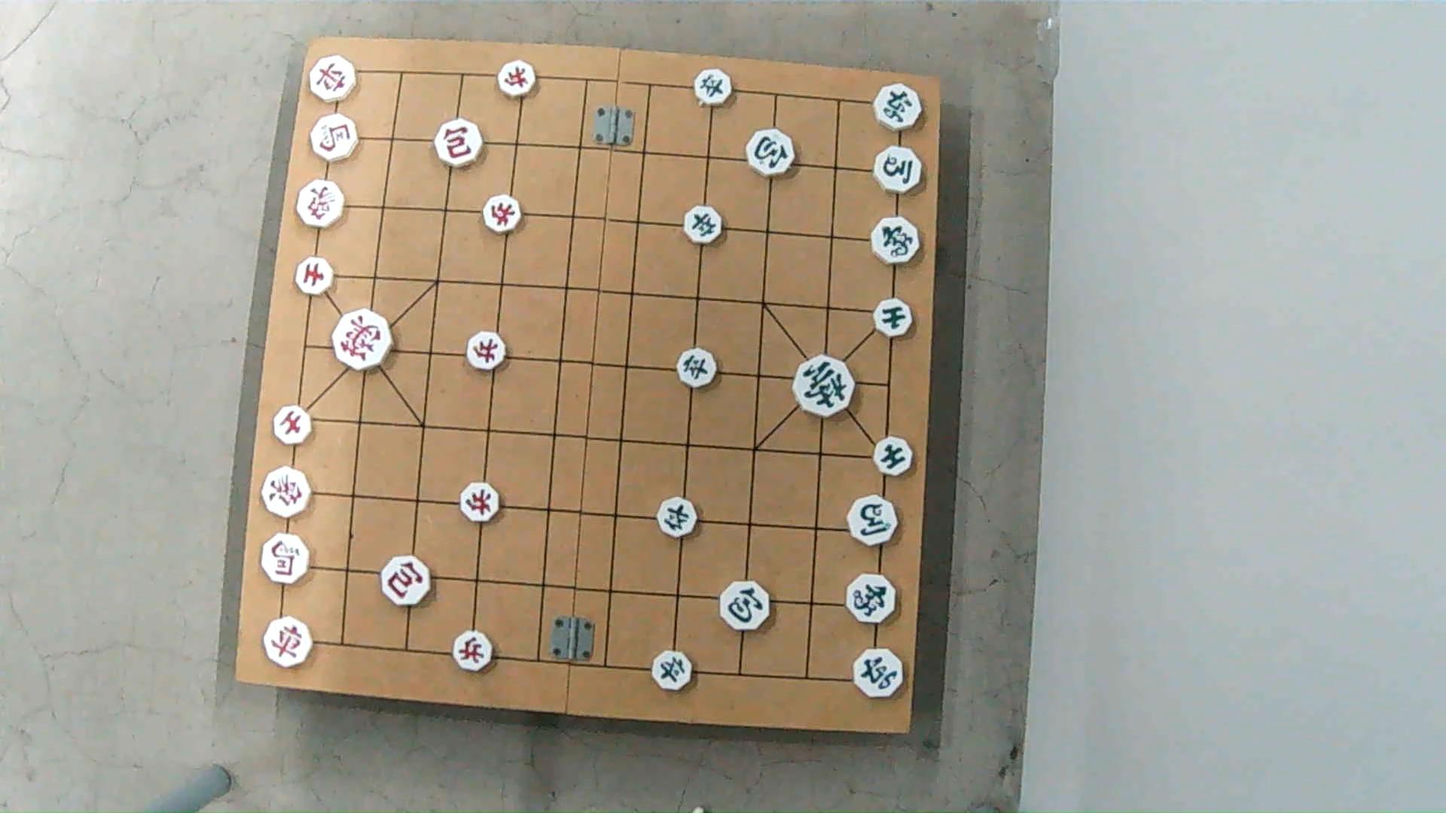cha_green: (850, 650, 905, 698), (871, 85, 922, 129)
cha_red: (263, 618, 313, 665), (307, 56, 359, 101)
jol_green: (650, 653, 695, 690), (676, 350, 719, 385), (655, 500, 698, 535), (680, 212, 723, 247), (693, 73, 734, 106)
jol_red: (464, 330, 507, 370), (453, 632, 496, 669), (460, 486, 503, 522), (496, 62, 538, 95), (484, 197, 524, 230)
ma_green: (846, 498, 900, 543), (870, 150, 921, 193)
ma_red: (259, 536, 310, 583), (307, 117, 358, 160)
po_green: (719, 580, 772, 629), (748, 131, 798, 175)
po_red: (382, 556, 433, 606), (432, 123, 485, 166)
sa_green: (873, 301, 917, 336), (874, 439, 916, 475)
sa_red: (274, 402, 312, 443), (293, 259, 337, 294)
sang_green: (867, 215, 921, 266), (844, 576, 898, 621)
sang_red: (260, 469, 313, 516), (295, 181, 346, 227)
wang_green: (792, 361, 856, 416)
wang_red: (329, 313, 392, 368)
